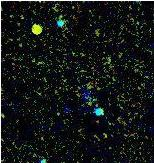star: (21, 12, 51, 42)
